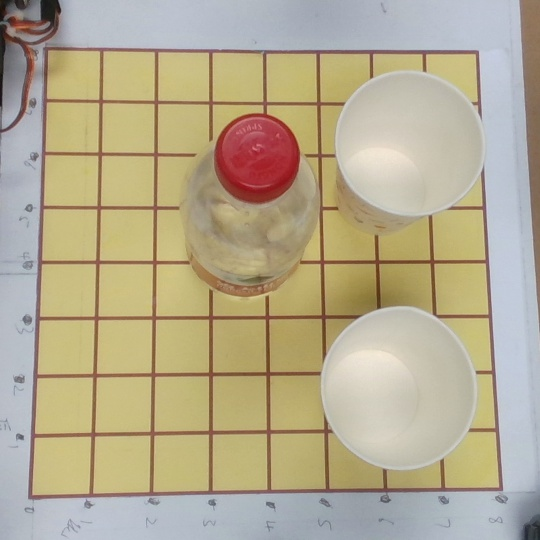bottle: (166, 109, 319, 322)
cup: (317, 71, 485, 256), (302, 303, 476, 476)
